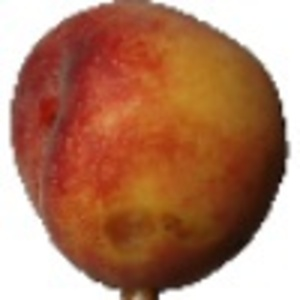pêssego: (1, 1, 290, 300)
